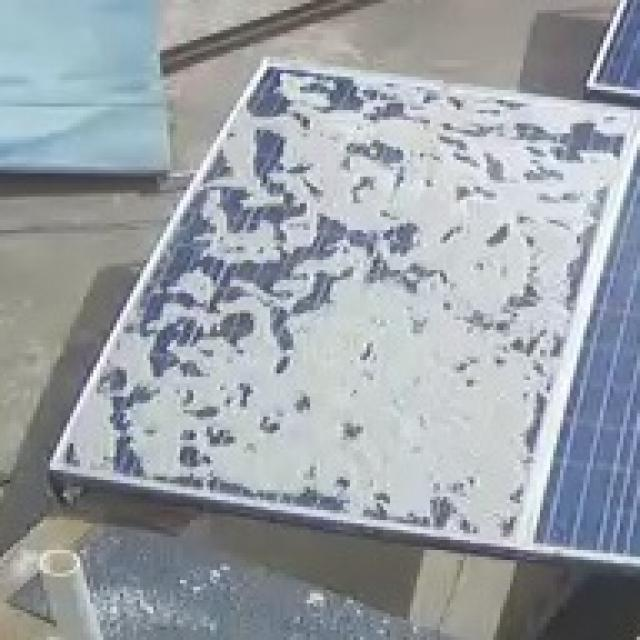faulty: (55, 62, 630, 538)
